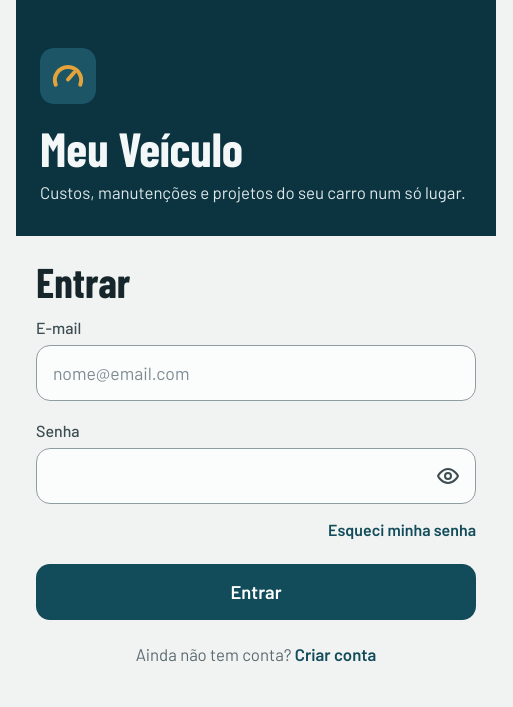
Test: Entrar › mostra a mensagem do servidor quando a senha está errada
In the field labelled "E-mail": point(256, 373) [36,345,476,401], type "paula@email.com"
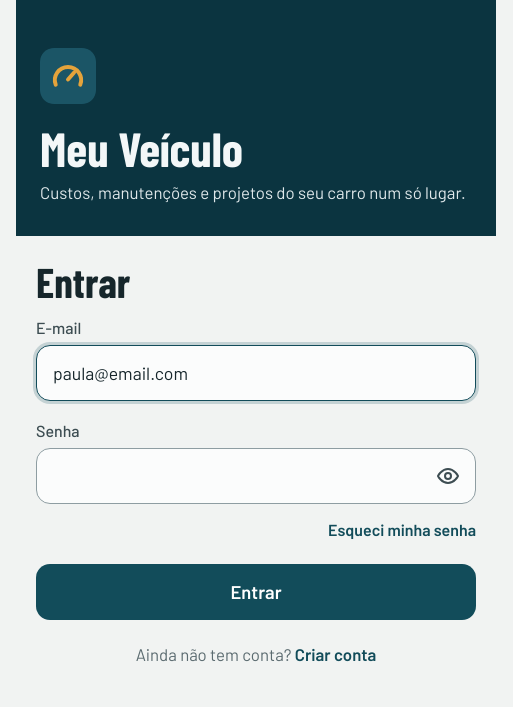
In the password field labelled "Senha": point(256, 476) [36,448,476,504], type "errada123"
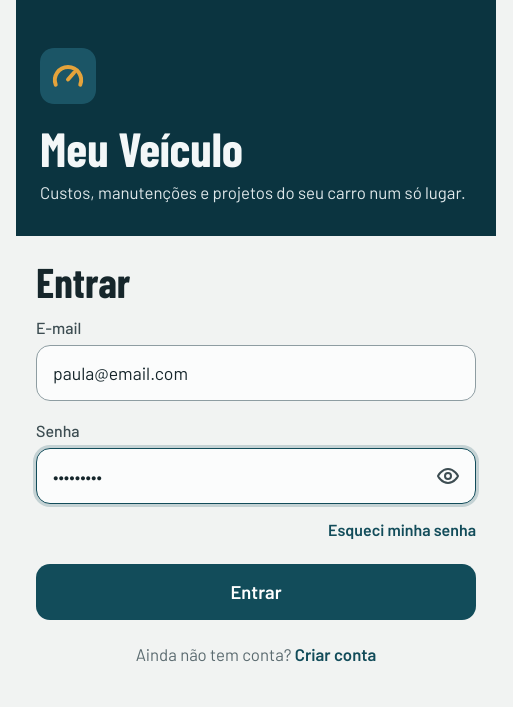
Click the button "Entrar": point(256, 592) [36,564,476,620]
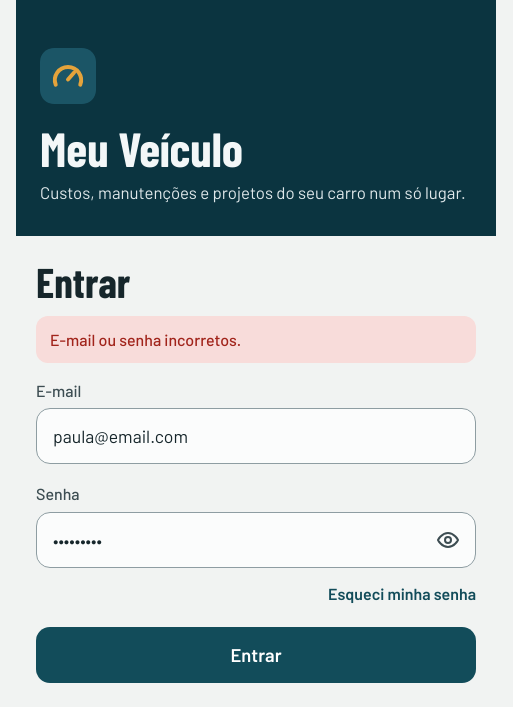
Result: the text "E-mail ou senha incorretos." is shown at [36,316,476,363]
